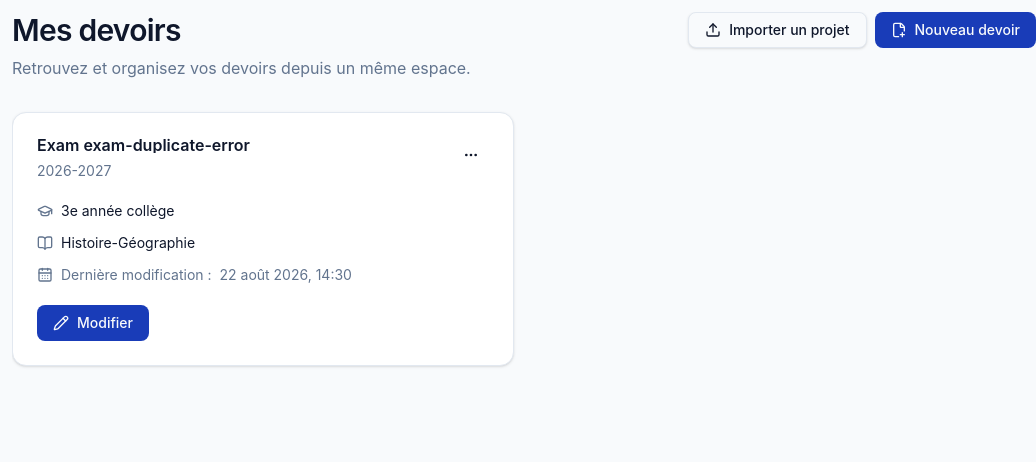
DashboardPage › does not add a card when duplication persistence fails
Expected: the text "Exam exam-duplicate-error" is shown, [37, 137, 250, 153]
Click the button named "Actions pour Exam exam-duplicate-error": [471, 155] box [453, 137, 489, 173]
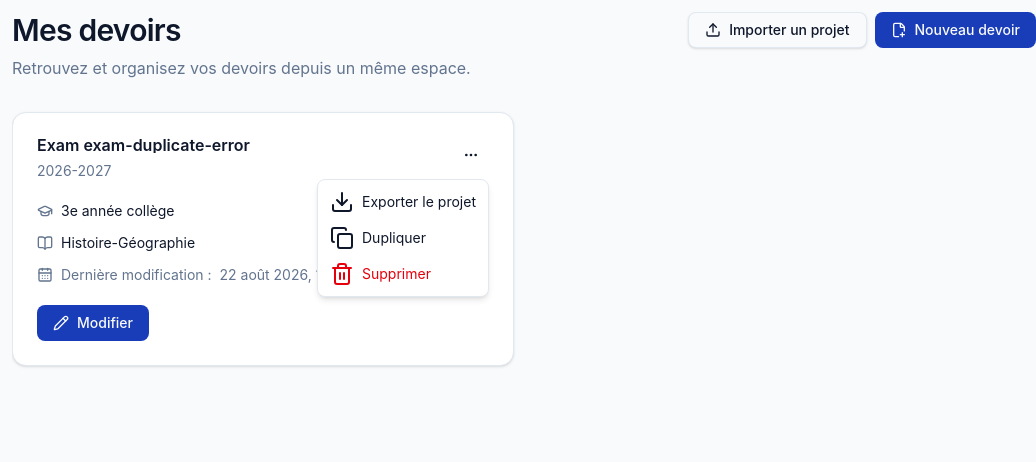
Click the menu item "Dupliquer": [378, 238] box [330, 226, 426, 250]
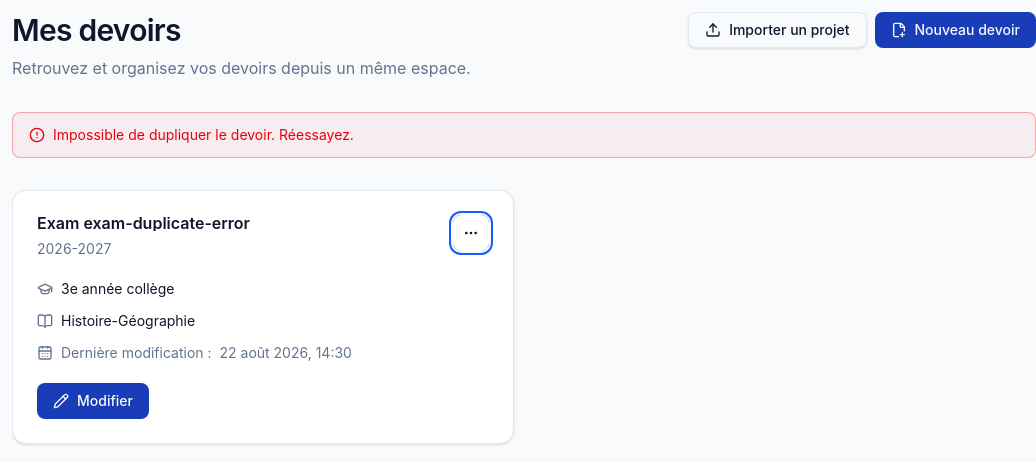
Expected: the text "Exam exam-duplicate-error" is shown once, [37, 215, 250, 231]
Expected: the text "Impossible de dupliquer le devoir. Réessayez." is shown, [53, 125, 354, 145]
